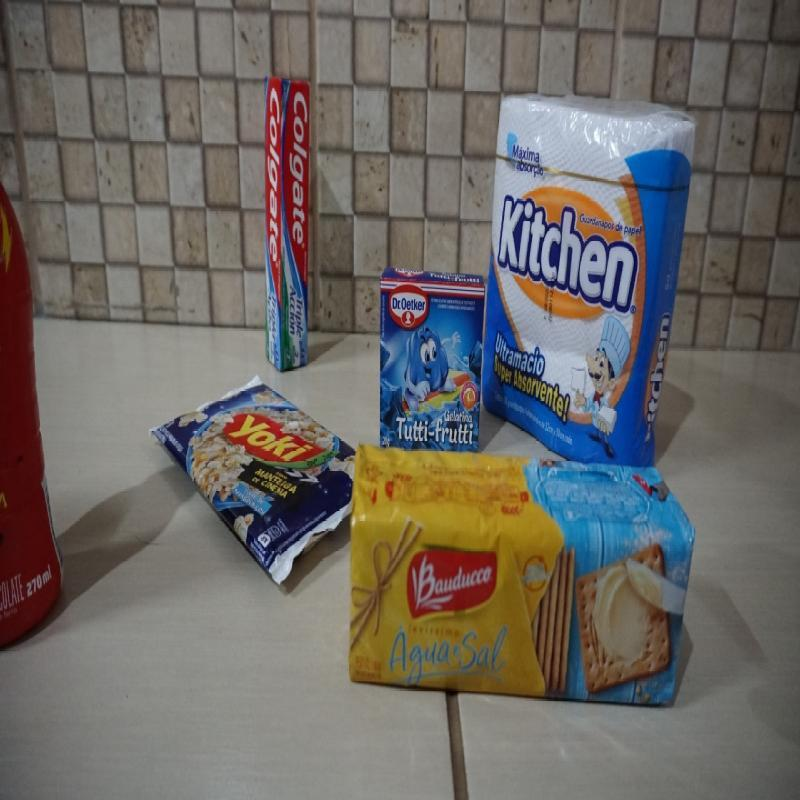Chocolate Milk: (0, 174, 66, 655), (0, 169, 63, 643)
Cracker: (342, 442, 699, 722), (348, 437, 699, 712)
Gelatine: (376, 260, 488, 459), (378, 269, 486, 444)
Napkin: (489, 77, 698, 476), (481, 86, 696, 466)
Popcorn: (147, 373, 364, 596), (161, 379, 353, 610)
Toothpaste: (253, 77, 322, 376), (261, 72, 311, 372)
